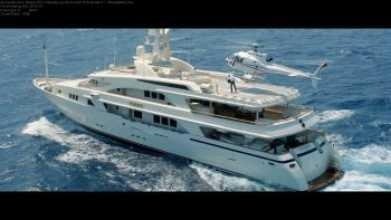airplane: (221, 36, 322, 81)
yacht: (33, 52, 345, 178)
